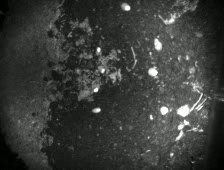corn: (152, 36, 164, 53), (145, 66, 160, 77), (118, 1, 132, 12), (95, 64, 107, 75), (89, 106, 103, 115), (91, 83, 102, 93), (93, 45, 102, 57)
